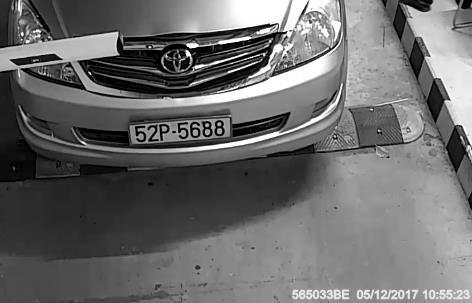License-plate: (123, 110, 242, 149)
